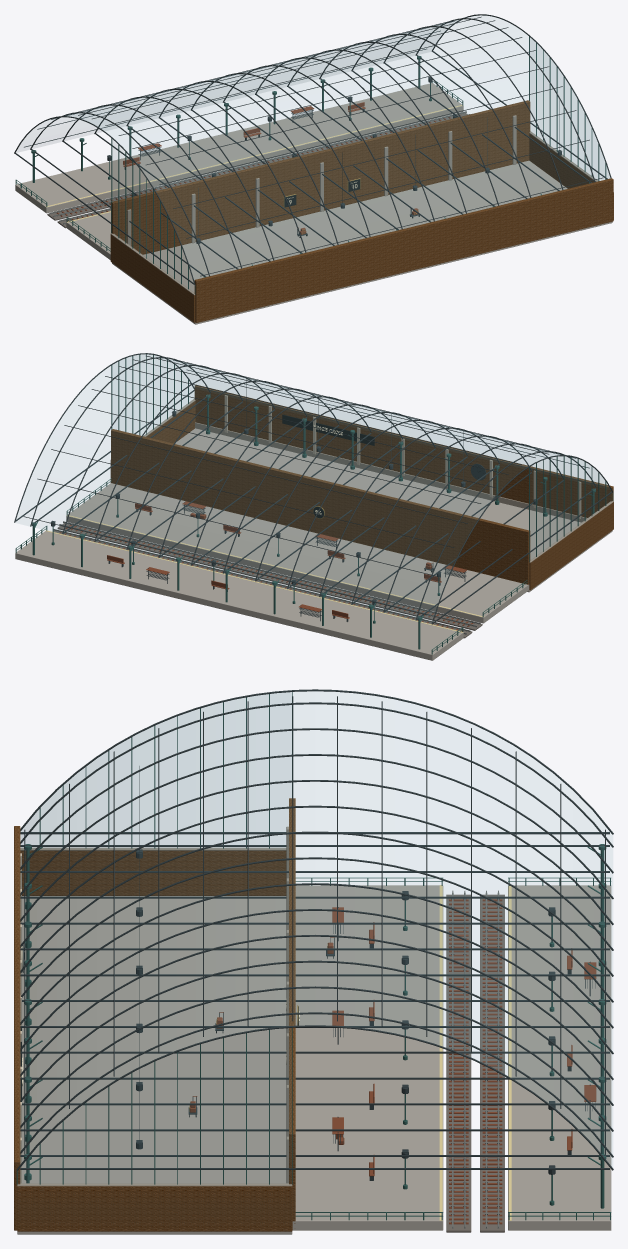
File: platform_9_34.glb
3 views of the same model, one above another, from view 1: azimuth 30°, elevation 25°; view 2: azimuth 150°, elevation 25°; view 3: azimuth 270°, elevation 25° (orthographic). The views are drawn at different scales.
Parts seen in each view (by area): view 1: WEB_Batched_03_MAT_Brick_Warm_Yellow, WEB_Batched_00_MAT_Platform_Stone, WEB_Batched_07_MAT_Painted_Iron, WEB_Batched_05_MAT_Roof_Glass, WEB_Batched_02_MAT_Station_Green, WEB_Batched_04_MAT_Stone_Warm, WEB_Batched_10_MAT_Rail_Steel, WEB_Batched_08_MAT_Track_Ballast, WEB_Batched_09_MAT_Dark_Wood, WEB_Batched_01_MAT_Platform_Edge; view 2: WEB_Batched_00_MAT_Platform_Stone, WEB_Batched_03_MAT_Brick_Warm_Yellow, WEB_Batched_07_MAT_Painted_Iron, WEB_Batched_05_MAT_Roof_Glass, WEB_Batched_02_MAT_Station_Green, WEB_Batched_08_MAT_Track_Ballast, WEB_Batched_04_MAT_Stone_Warm, WEB_Batched_10_MAT_Rail_Steel, WEB_Batched_09_MAT_Dark_Wood, WEB_Batched_01_MAT_Platform_Edge, WEB_Batched_06_MAT_Stone_Light, WEB_Batched_12_MAT_Black_Enamel; view 3: WEB_Batched_00_MAT_Platform_Stone, WEB_Batched_07_MAT_Painted_Iron, WEB_Batched_03_MAT_Brick_Warm_Yellow, WEB_Batched_05_MAT_Roof_Glass, WEB_Batched_08_MAT_Track_Ballast, WEB_Batched_02_MAT_Station_Green, WEB_Batched_09_MAT_Dark_Wood, WEB_Batched_10_MAT_Rail_Steel, WEB_Batched_04_MAT_Stone_Warm, WEB_Batched_01_MAT_Platform_Edge.
Boxes of the visible parts, bbox=[...] form: WEB_Batched_03_MAT_Brick_Warm_Yellow: bbox=[110, 100, 613, 322]; WEB_Batched_00_MAT_Platform_Stone: bbox=[15, 83, 612, 324]; WEB_Batched_07_MAT_Painted_Iron: bbox=[14, 14, 611, 285]; WEB_Batched_05_MAT_Roof_Glass: bbox=[67, 20, 609, 180]; WEB_Batched_02_MAT_Station_Green: bbox=[15, 36, 606, 294]; WEB_Batched_04_MAT_Stone_Warm: bbox=[111, 115, 613, 295]; WEB_Batched_10_MAT_Rail_Steel: bbox=[49, 111, 470, 224]; WEB_Batched_08_MAT_Track_Ballast: bbox=[47, 113, 467, 228]; WEB_Batched_09_MAT_Dark_Wood: bbox=[56, 102, 460, 231]; WEB_Batched_01_MAT_Platform_Edge: bbox=[45, 105, 462, 222]; WEB_Batched_00_MAT_Platform_Stone: bbox=[15, 428, 612, 660]; WEB_Batched_03_MAT_Brick_Warm_Yellow: bbox=[110, 384, 613, 590]; WEB_Batched_07_MAT_Painted_Iron: bbox=[14, 353, 613, 627]; WEB_Batched_05_MAT_Roof_Glass: bbox=[112, 354, 610, 490]; WEB_Batched_02_MAT_Station_Green: bbox=[15, 354, 613, 654]; WEB_Batched_08_MAT_Track_Ballast: bbox=[53, 523, 482, 638]; WEB_Batched_04_MAT_Stone_Warm: bbox=[143, 399, 613, 562]; WEB_Batched_10_MAT_Rail_Steel: bbox=[53, 521, 480, 634]; WEB_Batched_09_MAT_Dark_Wood: bbox=[59, 501, 473, 631]; WEB_Batched_01_MAT_Platform_Edge: bbox=[45, 515, 484, 632]; WEB_Batched_06_MAT_Stone_Light: bbox=[224, 395, 581, 518]; WEB_Batched_12_MAT_Black_Enamel: bbox=[282, 414, 483, 572]; WEB_Batched_00_MAT_Platform_Stone: bbox=[17, 885, 611, 1234]; WEB_Batched_07_MAT_Painted_Iron: bbox=[16, 689, 613, 1222]; WEB_Batched_03_MAT_Brick_Warm_Yellow: bbox=[14, 798, 295, 1231]; WEB_Batched_05_MAT_Roof_Glass: bbox=[20, 692, 291, 848]; WEB_Batched_08_MAT_Track_Ballast: bbox=[446, 894, 504, 1232]; WEB_Batched_02_MAT_Station_Green: bbox=[16, 692, 611, 1220]; WEB_Batched_09_MAT_Dark_Wood: bbox=[190, 899, 596, 1224]; WEB_Batched_10_MAT_Rail_Steel: bbox=[452, 890, 499, 1228]; WEB_Batched_04_MAT_Stone_Warm: bbox=[17, 826, 292, 1186]; WEB_Batched_01_MAT_Platform_Edge: bbox=[439, 885, 511, 1220].
Bounding box in the file's own units: 105 × 30.26 × 78.53.
16 materials, 1 textured.
